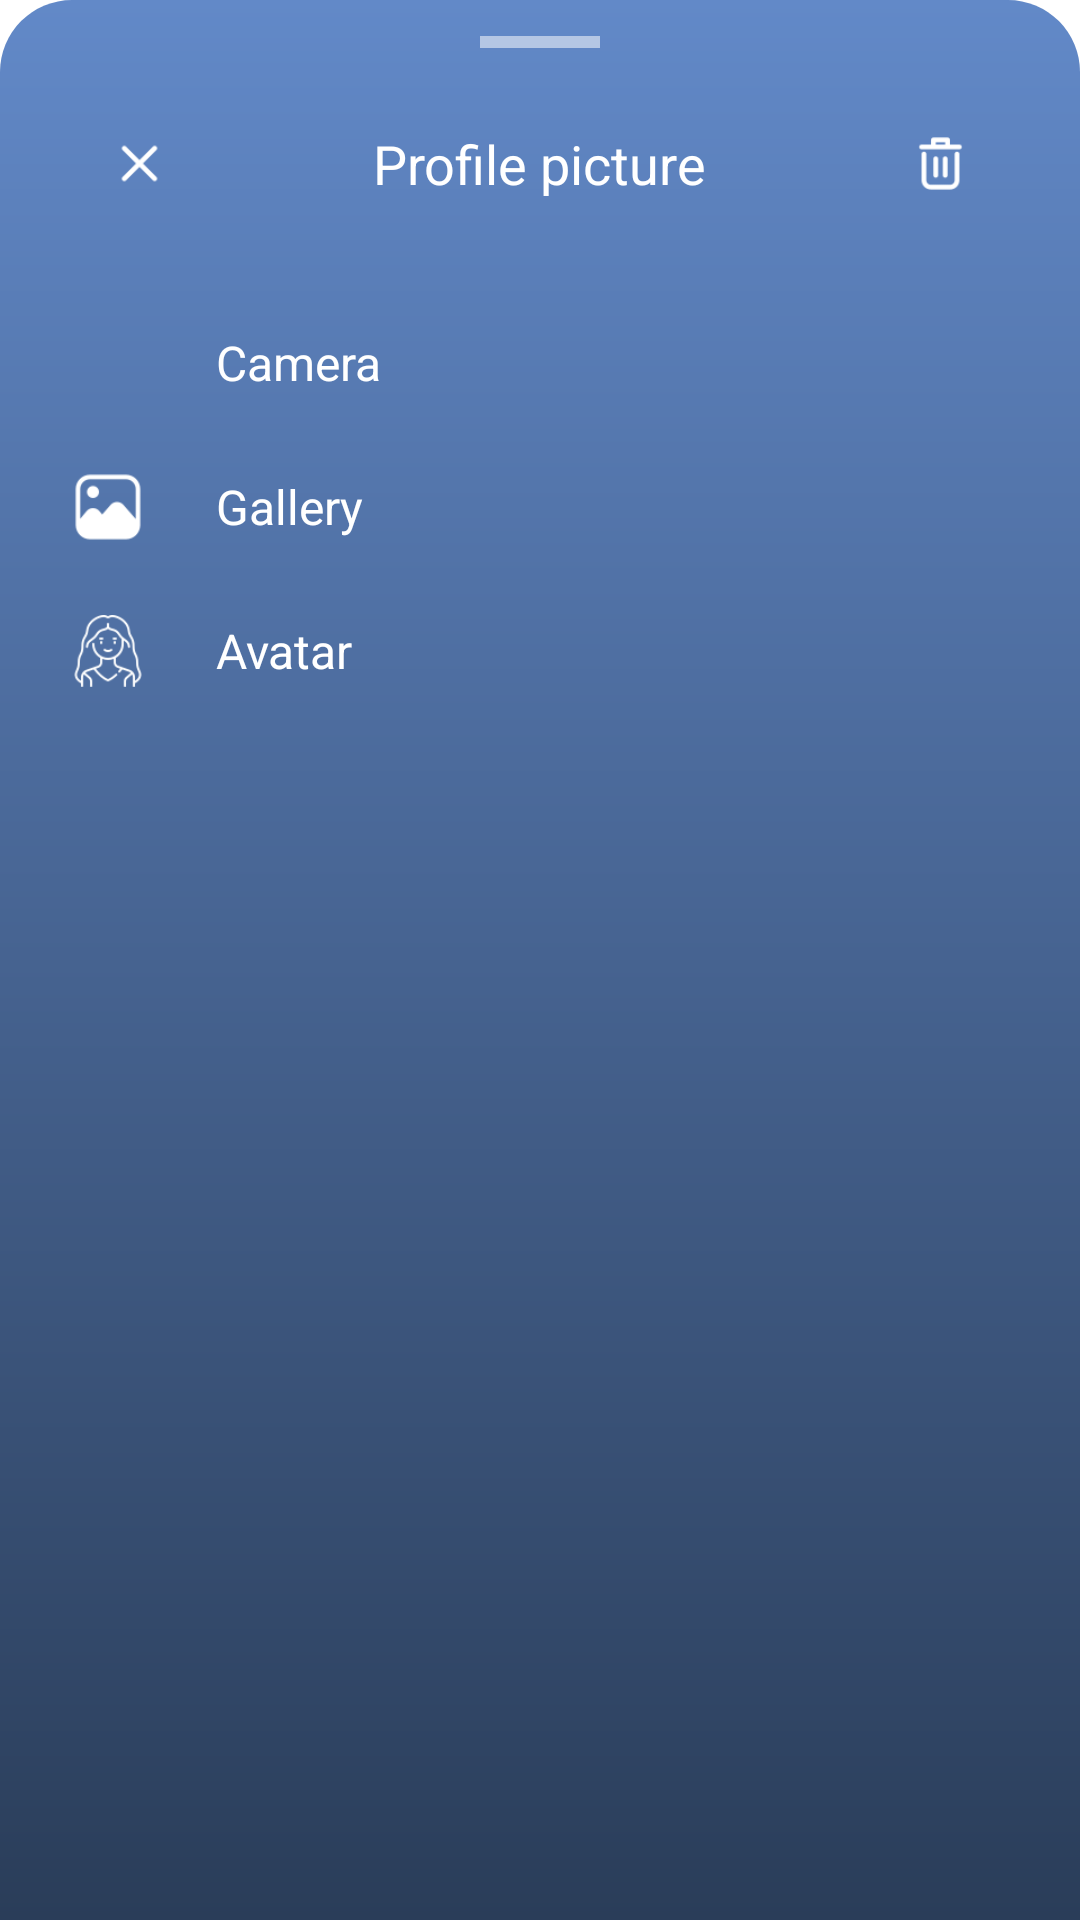

Icon bounding boxes for this 1080px×1920px phone screenshot, format (x1, y1, x2, y2):
close: (121, 145, 158, 182)
delete: (919, 137, 962, 190)
